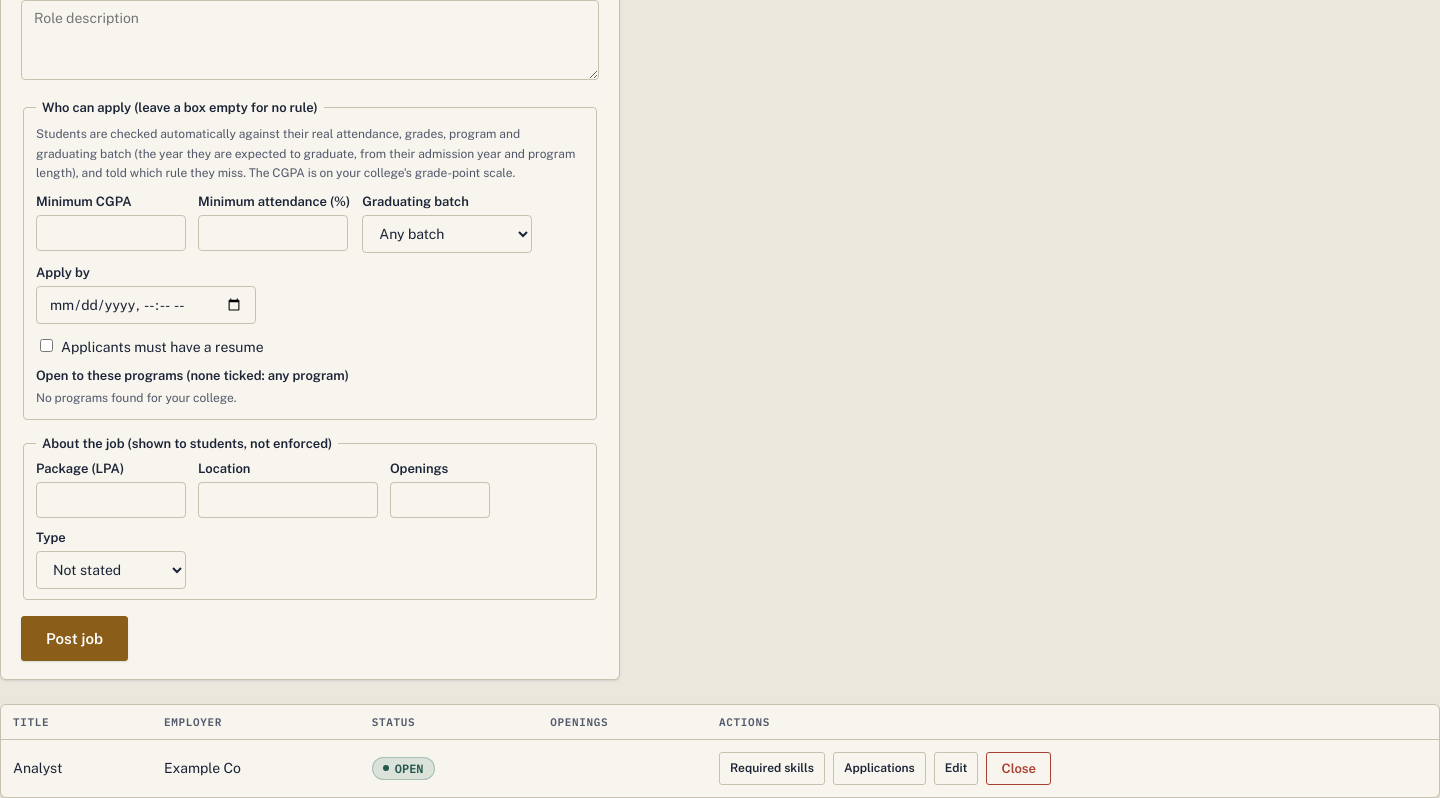
the officer decides an application and says why › will not send a rejection without a reason, and says so
(page scrolled)
What coordinates should you click on to do the following:
click the button "Applications"
I would click on:
 (879, 768)
Its box is [833, 752, 926, 785].
(page scrolled)
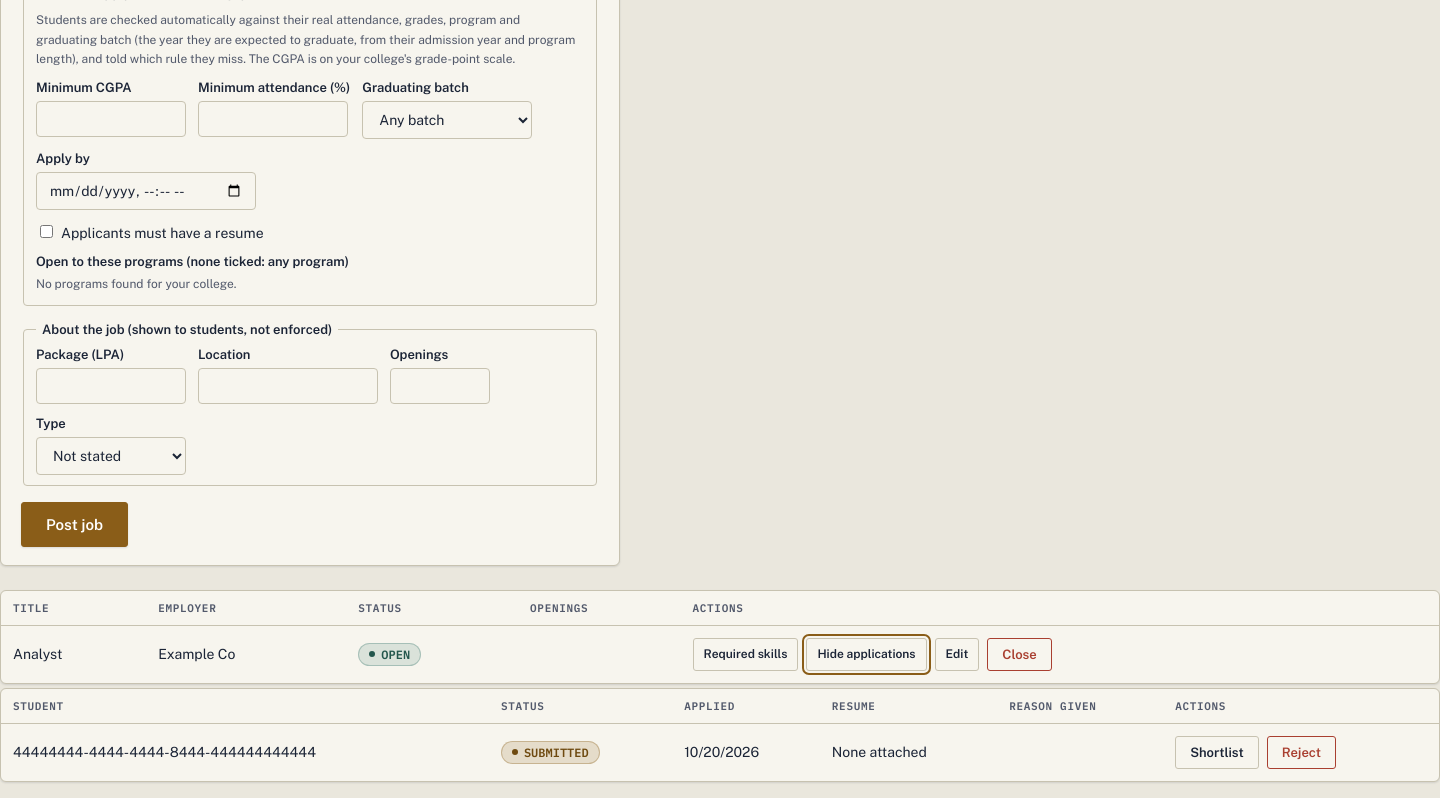
What coordinates should you click on to do the following:
click the button "Reject"
I would click on:
 (1301, 752)
Its box is [1267, 736, 1336, 769].
(page scrolled)
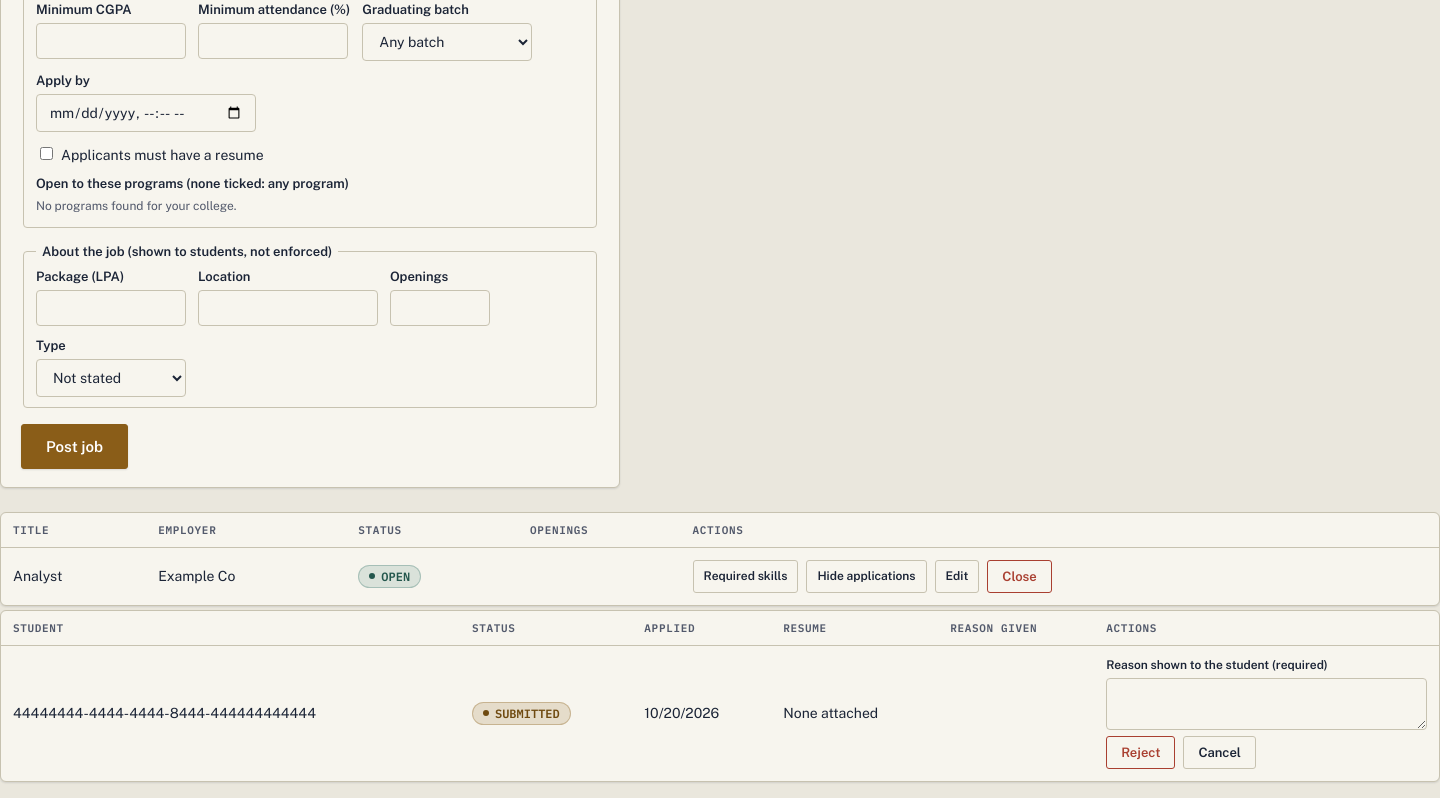
What coordinates should you click on to do the following:
click the button "Reject"
I would click on:
 (1141, 752)
Its box is [1106, 736, 1176, 769].
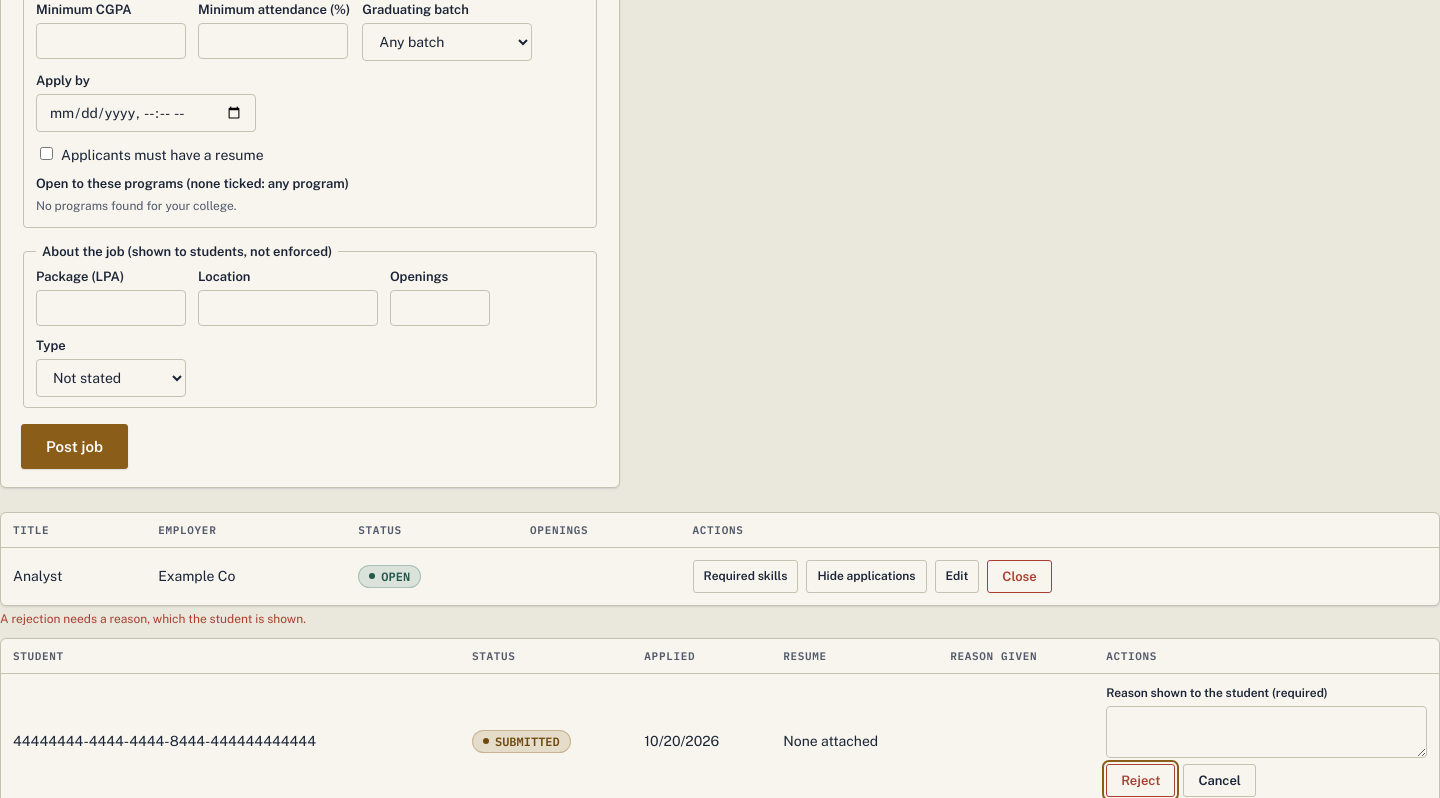
Result: the text "A rejection needs a reason, which the student is shown." is shown at [0, 612, 306, 626]
